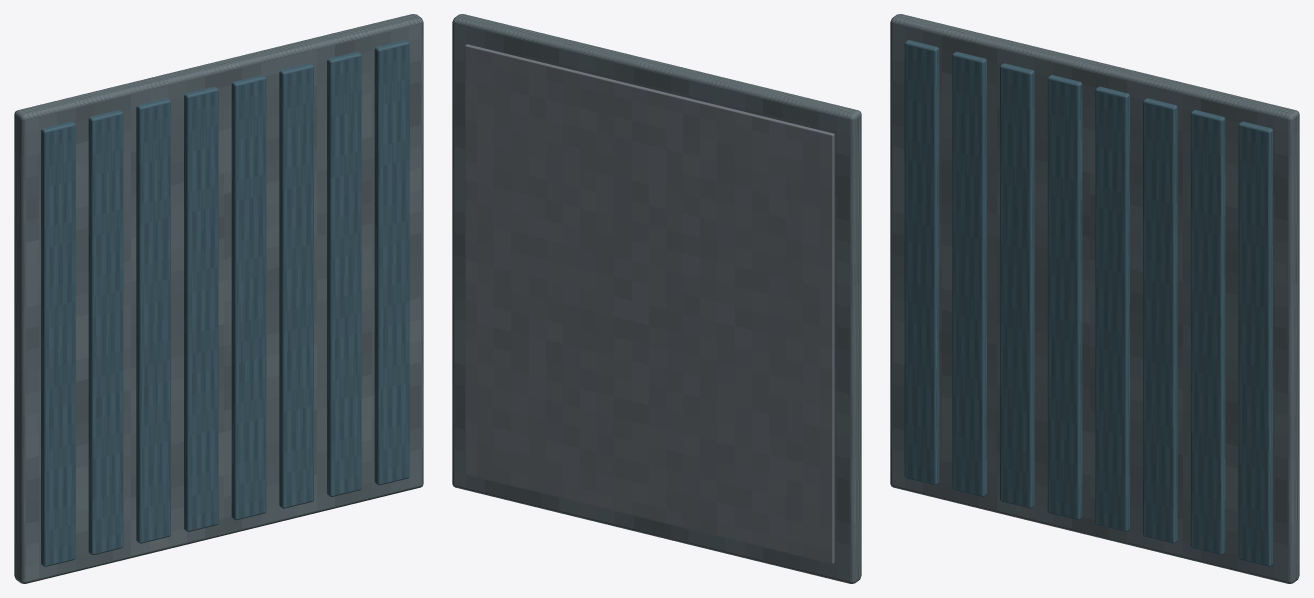
Rendered from acoustic_panel01.glb.
The picture shows the model from 3 angles, left to right: view 1: azimuth 30°, elevation 25°; view 2: azimuth 150°, elevation 25°; view 3: azimuth 330°, elevation 25°; orthographic projection.
Visible parts, largest first — view 1: felt_ribs, base; view 2: mount, base; view 3: felt_ribs, base.
Part boxes in pixels (box(x1,y1,x2,y2)): felt_ribs: box(41, 40, 409, 566); base: box(14, 14, 423, 583); mount: box(465, 44, 834, 563); base: box(452, 14, 861, 583); felt_ribs: box(904, 40, 1272, 566); base: box(890, 14, 1299, 583).
Bounding box in the file's own units: 1.15 × 1.28 × 0.0825.
Materials: 3 (3 with a texture image).
